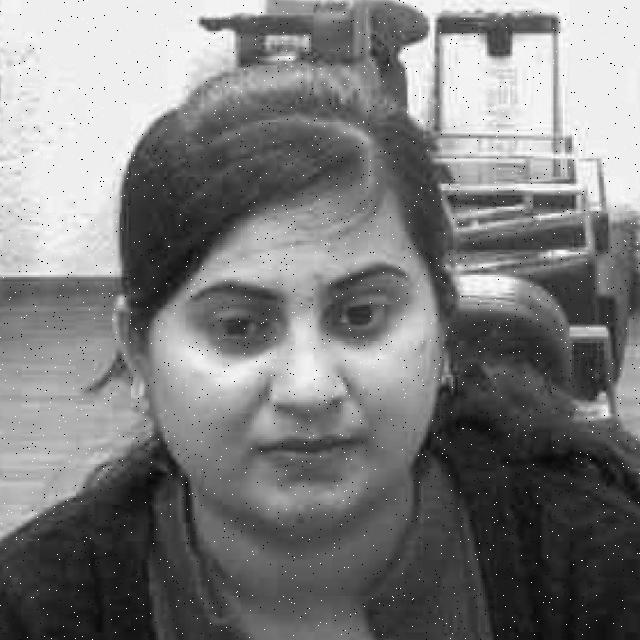puffy_eyes: (204, 327, 283, 358), (324, 323, 388, 346)
